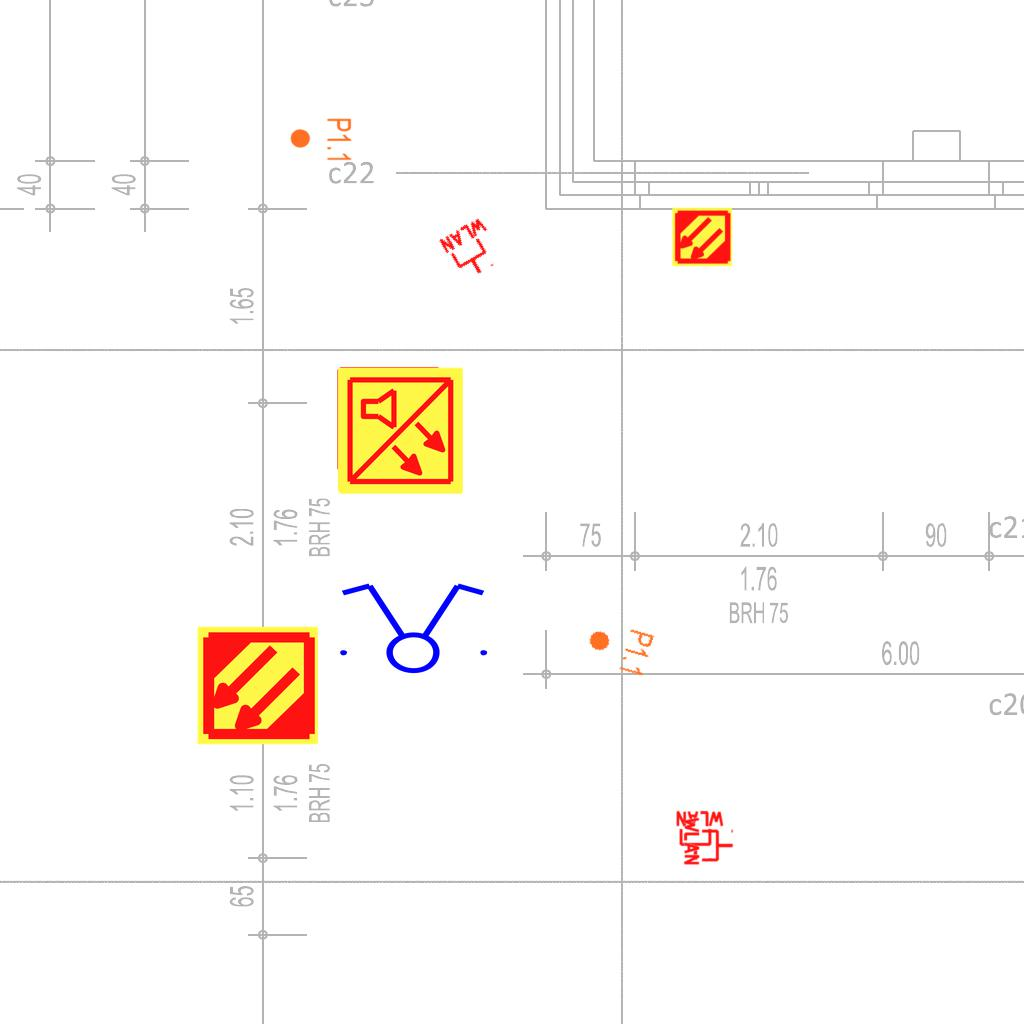ASR_Ansaugrauchmelder: (195, 623, 320, 748), (671, 206, 733, 268)
Downlight_LED_Einbauleuchten_Flur: (581, 617, 657, 679), (289, 117, 353, 163)
OKW_Multisensormelder_(Kombination_optischer_Rauch-Kahlenmonoxid_Waerme-Melder): (334, 365, 466, 497)
Serienschalter: (328, 579, 496, 675)
WLAN: (436, 214, 508, 286), (674, 810, 726, 862), (683, 815, 735, 867)
